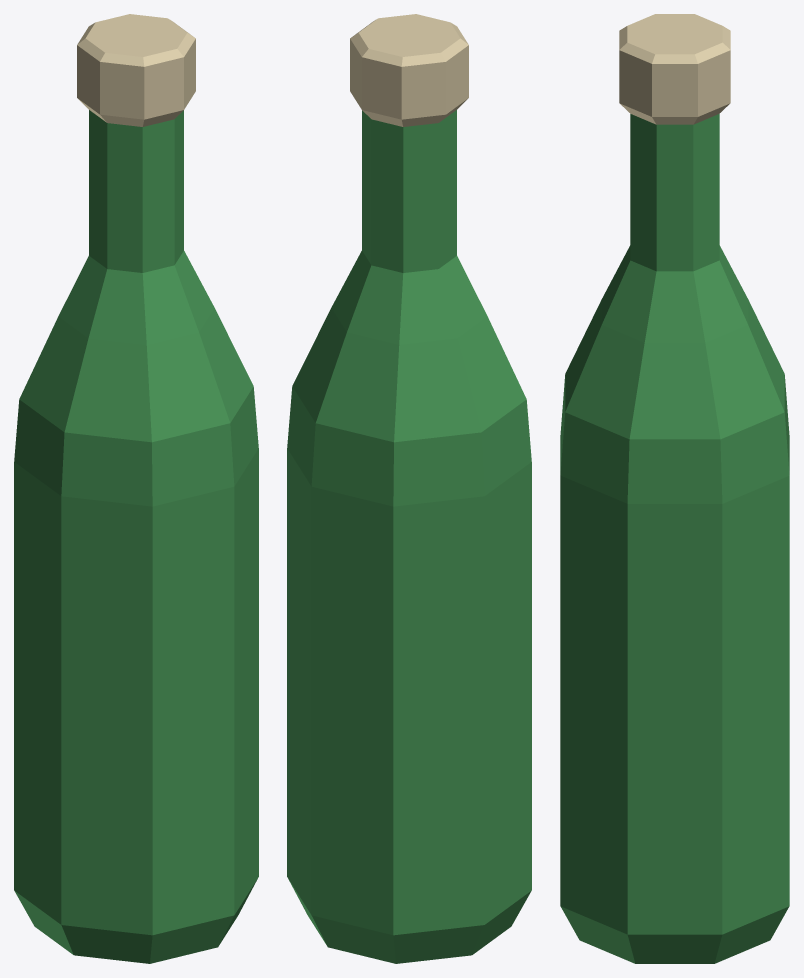
File: SM_Clutter_Bottle_Jade_01.glb
3 renders of one model, left to right at view 1: azimuth 30°, elevation 25°; view 2: azimuth 150°, elevation 25°; view 3: azimuth 270°, elevation 25°, orthographic.
Parts seen in each view (by area): view 1: SM_Clutter_Bottle_Jade_01; view 2: SM_Clutter_Bottle_Jade_01; view 3: SM_Clutter_Bottle_Jade_01.
Part boxes in pixels (bbox=[...]): SM_Clutter_Bottle_Jade_01: bbox=[14, 14, 258, 963]; SM_Clutter_Bottle_Jade_01: bbox=[287, 14, 531, 963]; SM_Clutter_Bottle_Jade_01: bbox=[560, 14, 789, 963].
Bounding box in the file's own units: 0.0665 × 0.285 × 0.0665.
1 material, 1 textured.
